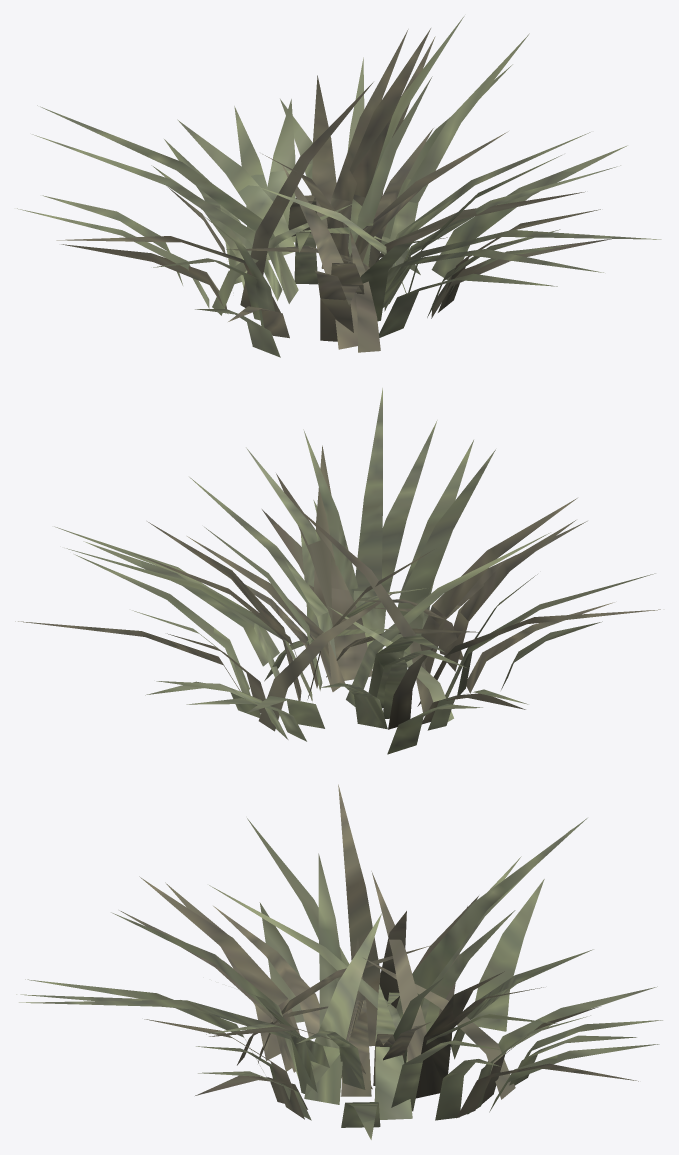
Rendered from grass_sedge_01.glb.
3 renders of one model, top to bottom at view 1: azimuth 30°, elevation 25°; view 2: azimuth 150°, elevation 25°; view 3: azimuth 270°, elevation 25°, orthographic. The views are drawn at different scales.
Visible parts, largest first — view 1: grass_sedge_01; view 2: grass_sedge_01; view 3: grass_sedge_01.
Part boxes in pixels (x1,y1,x2,y2): grass_sedge_01: [17, 16, 661, 357]; grass_sedge_01: [15, 388, 660, 754]; grass_sedge_01: [16, 784, 662, 1139].
Size of the model in its own units: 0.7653 by 0.2356 by 0.713.
1 material, 1 textured.
